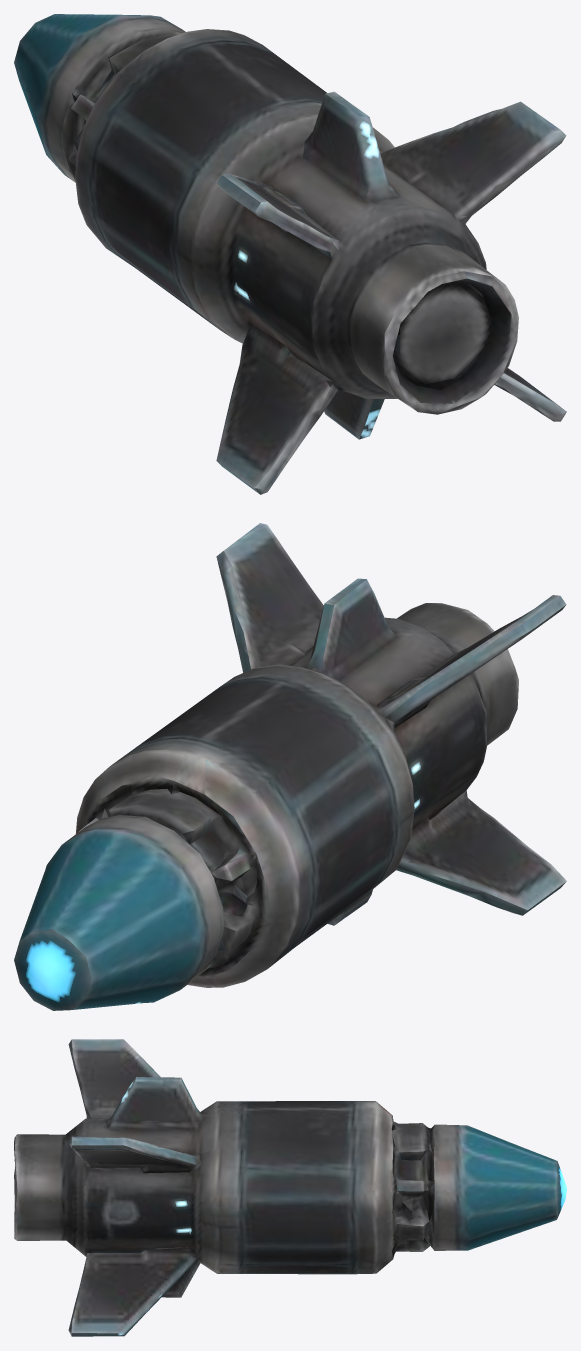
3 renders of one model, top to bottom at view 1: azimuth 30°, elevation 25°; view 2: azimuth 150°, elevation 25°; view 3: azimuth 270°, elevation 25°, orthographic. The views are drawn at different scales.
Parts seen in each view (by area): view 1: body; view 2: body; view 3: body.
Boxes of the visible parts, bbox=[...] form: body: bbox=[14, 14, 566, 494]; body: bbox=[14, 523, 566, 1010]; body: bbox=[14, 1039, 566, 1336].
Bounding box in the file's own units: 0.1987 × 0.1962 × 0.449.
Materials: 1 (1 with a texture image).
